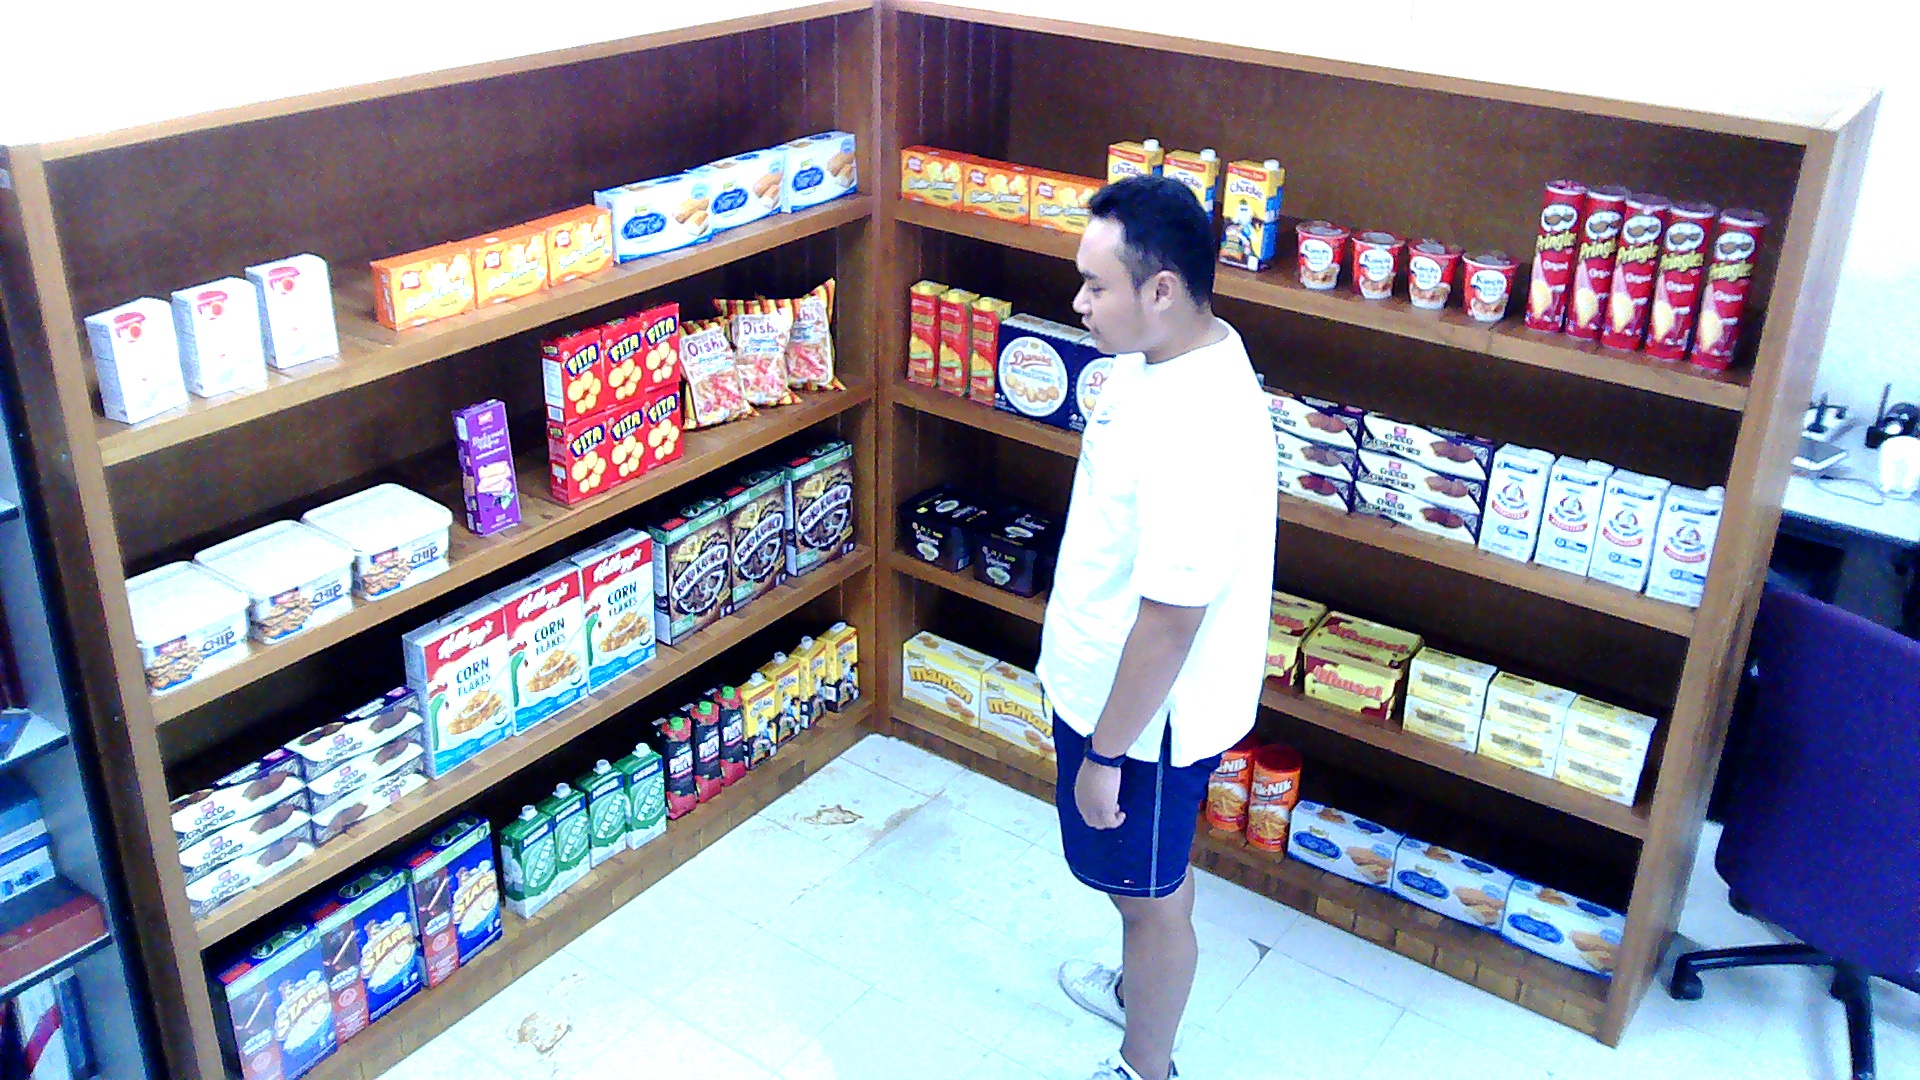Bear brand: (1587, 468, 1671, 592), (1647, 484, 1725, 608), (1536, 454, 1614, 573), (1476, 443, 1554, 560)
Buttercake: (1500, 875, 1626, 981), (1389, 834, 1515, 933), (1286, 796, 1403, 893), (594, 171, 711, 263), (683, 148, 782, 234), (764, 128, 857, 211)
Butterlicious: (368, 241, 473, 329), (452, 222, 545, 308), (525, 202, 612, 285), (960, 155, 1041, 223), (900, 144, 978, 209), (1029, 168, 1107, 229)
Camomille: (1407, 644, 1497, 716), (1485, 673, 1575, 743), (1554, 747, 1638, 803), (1401, 695, 1479, 751), (1479, 722, 1557, 778)
Choco Crunchies: (168, 747, 306, 853), (183, 819, 315, 920), (282, 683, 420, 780), (177, 787, 309, 884), (306, 725, 423, 815), (312, 754, 426, 846), (1359, 409, 1503, 479), (1356, 449, 1485, 512), (1353, 483, 1479, 542), (1260, 382, 1368, 447), (1274, 429, 1355, 478), (1277, 465, 1352, 510)
Chocolate Chips: (191, 520, 350, 644), (296, 483, 449, 600), (123, 560, 246, 695), (1562, 695, 1655, 769)
Chuckie: (1218, 157, 1284, 270), (756, 650, 801, 749), (1164, 148, 1218, 220), (735, 672, 774, 769), (816, 621, 858, 711), (785, 635, 824, 727), (1106, 137, 1163, 182)
Danisa: (993, 310, 1092, 427)
Fita: (539, 323, 602, 422), (543, 412, 609, 504), (620, 296, 677, 393), (585, 315, 645, 407), (605, 396, 644, 486), (645, 382, 681, 468)
Fresh Milk: (498, 803, 555, 918), (534, 780, 588, 893), (612, 740, 666, 848), (573, 758, 627, 866)
Grahams: (900, 481, 1005, 571), (966, 506, 1062, 594)
Hansel: (1299, 610, 1422, 720)
Head: (1070, 175, 1223, 364)
Honey Stars: (290, 862, 419, 1046), (204, 918, 336, 1078), (387, 812, 501, 988)
Kellogg Corn Flakes: (399, 593, 510, 780), (485, 560, 584, 736), (561, 526, 657, 693)
Kimchi Noodles: (1461, 248, 1521, 320), (1406, 236, 1463, 308), (1350, 227, 1404, 299), (1296, 218, 1350, 288)
Koko Krunch: (645, 494, 732, 645), (774, 436, 855, 576), (711, 464, 786, 612)
Locally Mango: (966, 297, 1011, 405), (936, 288, 978, 396), (906, 279, 948, 385)
Mamon: (899, 629, 998, 726), (981, 659, 1053, 758)
Oishi Prawn: (711, 297, 801, 407), (678, 314, 759, 429), (786, 276, 846, 389)
Pik-nik: (1244, 745, 1301, 851), (1206, 729, 1260, 830)
Pringles: (1689, 207, 1767, 369), (1644, 198, 1716, 360), (1599, 191, 1671, 351), (1563, 182, 1629, 337), (1523, 177, 1586, 330)
Super Fruits: (648, 711, 696, 819), (674, 697, 719, 803), (702, 682, 744, 785)
Wafer: (450, 398, 519, 535)
iHop: (80, 297, 185, 423), (171, 276, 267, 395), (243, 251, 339, 366)
